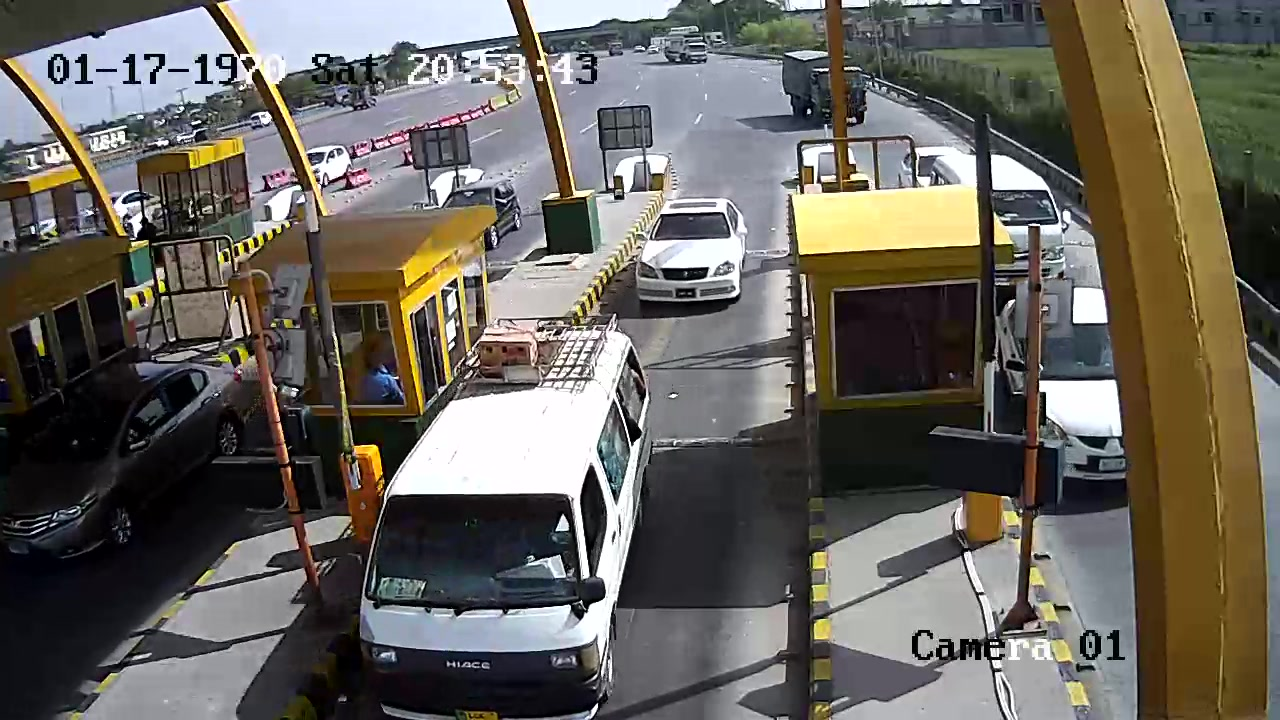F1: (631, 190, 759, 318)
